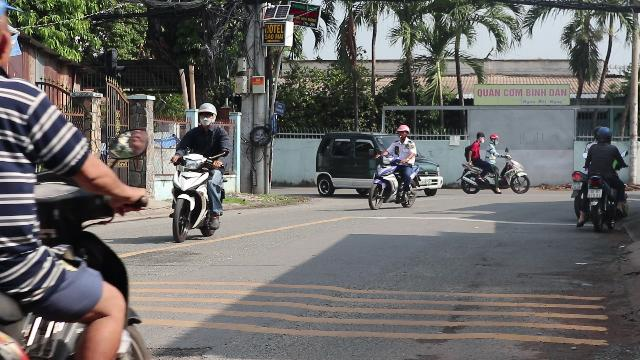helmet: (196, 102, 217, 126), (594, 126, 612, 142)
licenseplate: (587, 188, 601, 197)
motorcyclist: (166, 100, 230, 240), (575, 125, 629, 231)
